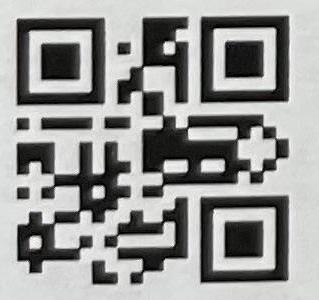qrcode: (17, 17, 290, 286)
